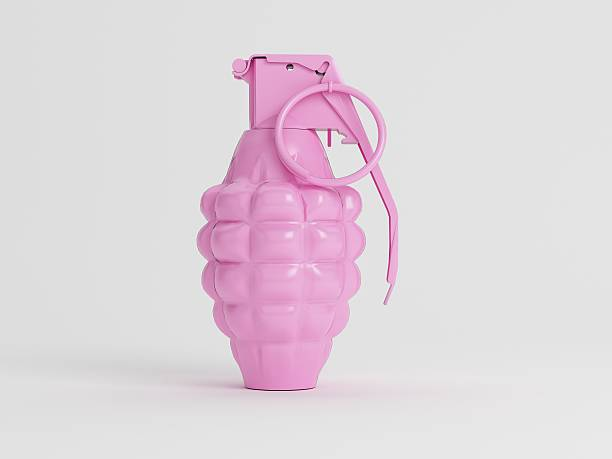e1: (198, 53, 406, 395)
